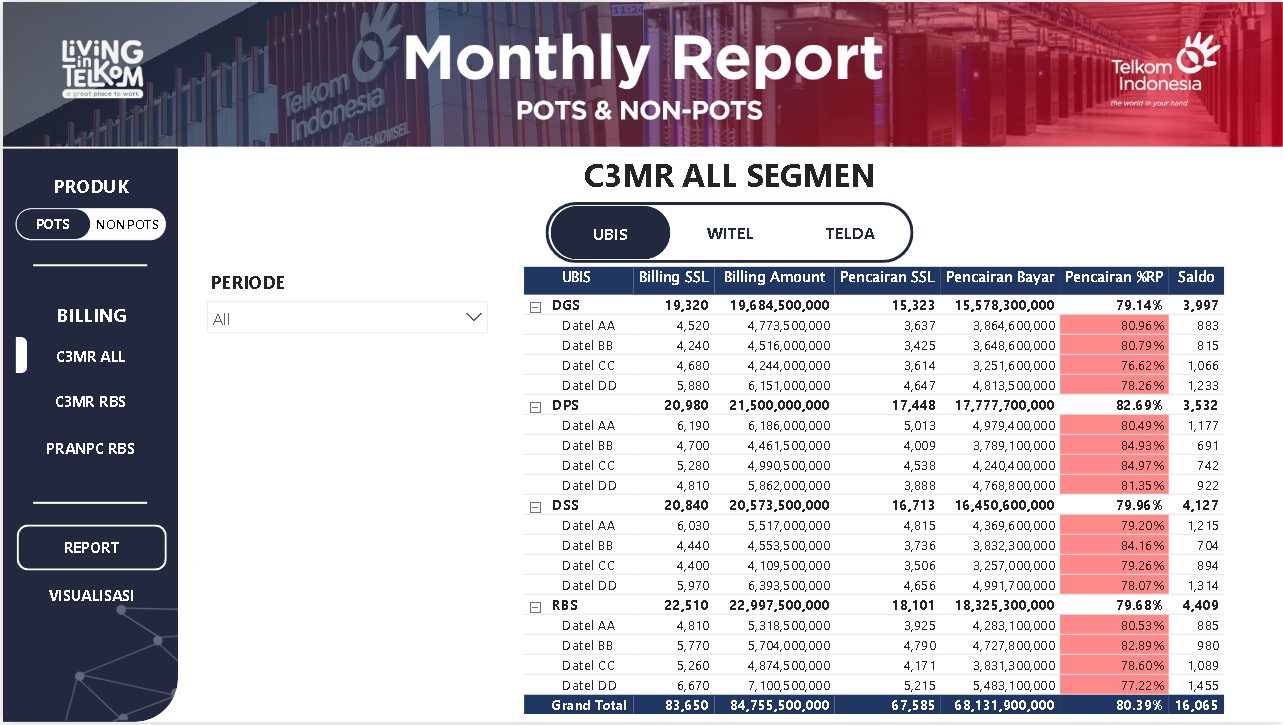

What the dashboard file says about the page in this screenshot:
{"tool":"powerbi","page":{"name":"POTS","canvas":[1280,720],"ordinal":0},"visuals":[{"type":"textbox","title":"Judul PRANPC RBS","box":[173.8,145,1106.2,53.8],"z":2000},{"type":"shape","title":"Sidebar","box":[0,146.2,175,573.8],"z":5000},{"type":"pageNavigator","box":[12.2,206.7,150,32.2],"z":6000},{"type":"image","title":"gambar sidebar","box":[36.9,412.3,190,307.5],"z":7000},{"type":"shape","title":"Pemisah produk billing","box":[30,242,114.6,41.5],"z":21000},{"type":"textbox","title":"Text box PRODUK","box":[6.2,166.2,163.1,36.9],"z":22000},{"type":"textbox","title":"Text box BILLING","box":[6,295,163,36],"z":23000},{"type":"actionButton","title":"Button C3MR ALL","box":[12.6,330.9,150,45.7],"z":24000},{"type":"actionButton","title":"Button PraNPC","box":[12.4,422,150,46.5],"z":25000},{"type":"actionButton","title":"Button PraNPC","box":[12.6,376.5,150,45.7],"z":26000},{"type":"shape","title":"Penanda billing pranpc","box":[12.9,427.1,11.8,36.5],"z":27000},{"type":"shape","title":"pemisah billing report","box":[30,480.4,114.4,41.7],"z":30000},{"type":"actionButton","title":"Button Report PRANPC BILPER ON","box":[13.8,521.5,150,46.2],"z":31000},{"type":"actionButton","title":"Button Visualisasi PRANPC OFF","box":[13.6,570.7,150,45],"z":55500},{"type":"tableEx","title":"PRANPC RBS BILPER","fields":{"Values":["Mapping New Telda.NEW TELDA","Sum(PRANPC RBS BILPER.Billing_L11 )","Sum(PRANPC RBS BILPER.Billing_Amount )","Sum(PRANPC RBS BILPER.Pencairan_Bayar )","PRANPC RBS BILPER.PRANPC BILPER_%Bayar","Sum(PRANPC RBS BILPER.Pencairan_Claim )","PRANPC RBS BILPER.PRANPC BILPER_%Claim","Sum(PRANPC RBS BILPER.Total Pencairan_L11 )","Sum(PRANPC RBS BILPER.Total Pencarian_Amount )","PRANPC RBS BILPER.PRANPC BILPER_%L11","PRANPC RBS BILPER.PRANPC BILPER_%Ammount","Sum(PRANPC RBS BILPER.Saldo_L11 )"]},"box":[211.2,262.5,1032.5,201.2],"z":64000},{"type":"shape","title":"outline button pranpc rbs","box":[481.5,198.9,488.8,60.6],"z":66000},{"type":"actionButton","title":"Button Umur PRANPC Putih","box":[486,202.2,120,54.7],"z":67000},{"type":"actionButton","title":"Button Witel PRANPC Putih","box":[605.7,202.4,120,52.9],"z":68000},{"type":"actionButton","title":"Button Telda PRANPC Putih","box":[725.7,202.4,120,52.9],"z":69000},{"type":"actionButton","title":"Button Bilper PRANPC","box":[846,202.9,120,52.7],"z":74000}]}

Visuals, with their boxes on the page's 1280x720 design canvas (x1, y1, x2, y2). These are canvas units, not pixel positions in the 1283x725 screenshot, which may show the page scaled, cropped or inside an application window:
"Judul PRANPC RBS" textbox: [left=174, top=145, right=1280, bottom=199]
"Sidebar" shape: [left=0, top=146, right=175, bottom=720]
pageNavigator: [left=12, top=207, right=162, bottom=239]
"gambar sidebar" image: [left=37, top=412, right=227, bottom=720]
"Pemisah produk billing" shape: [left=30, top=242, right=145, bottom=284]
"Text box PRODUK" textbox: [left=6, top=166, right=169, bottom=203]
"Text box BILLING" textbox: [left=6, top=295, right=169, bottom=331]
"Button C3MR ALL" actionButton: [left=13, top=331, right=163, bottom=377]
"Button PraNPC" actionButton: [left=12, top=422, right=162, bottom=468]
"Button PraNPC" actionButton: [left=13, top=376, right=163, bottom=422]
"Penanda billing pranpc" shape: [left=13, top=427, right=25, bottom=464]
"pemisah billing report" shape: [left=30, top=480, right=144, bottom=522]
"Button Report PRANPC BILPER ON" actionButton: [left=14, top=522, right=164, bottom=568]
"Button Visualisasi PRANPC OFF" actionButton: [left=14, top=571, right=164, bottom=616]
"PRANPC RBS BILPER" tableEx: [left=211, top=262, right=1244, bottom=464]
"outline button pranpc rbs" shape: [left=482, top=199, right=970, bottom=260]
"Button Umur PRANPC Putih" actionButton: [left=486, top=202, right=606, bottom=257]
"Button Witel PRANPC Putih" actionButton: [left=606, top=202, right=726, bottom=255]
"Button Telda PRANPC Putih" actionButton: [left=726, top=202, right=846, bottom=255]
"Button Bilper PRANPC" actionButton: [left=846, top=203, right=966, bottom=256]
